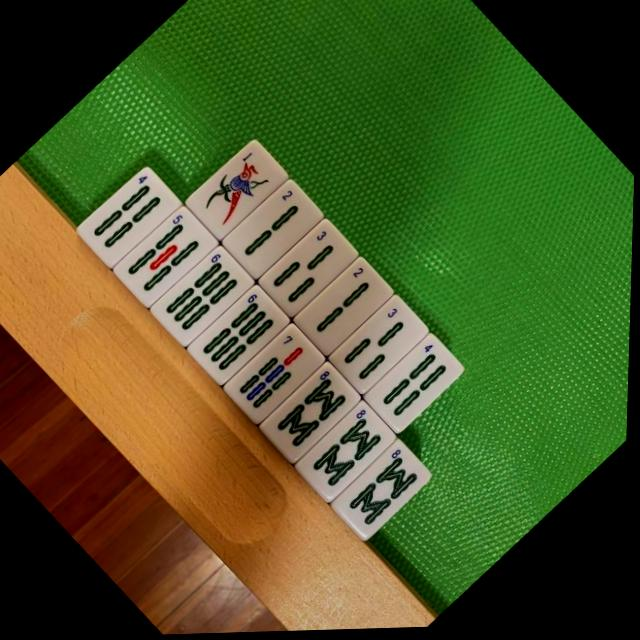sb1: (185, 139, 292, 243)
sb2: (220, 179, 326, 284), (293, 258, 397, 359)
sb3: (329, 296, 432, 398), (258, 220, 361, 321)
sb4: (74, 164, 184, 272), (363, 334, 468, 438)
sb5: (112, 205, 221, 312)
sb6: (151, 245, 257, 350), (188, 285, 293, 389)
sb7: (224, 324, 328, 427)
sb8: (296, 402, 400, 505), (260, 363, 364, 466), (332, 441, 436, 543)
